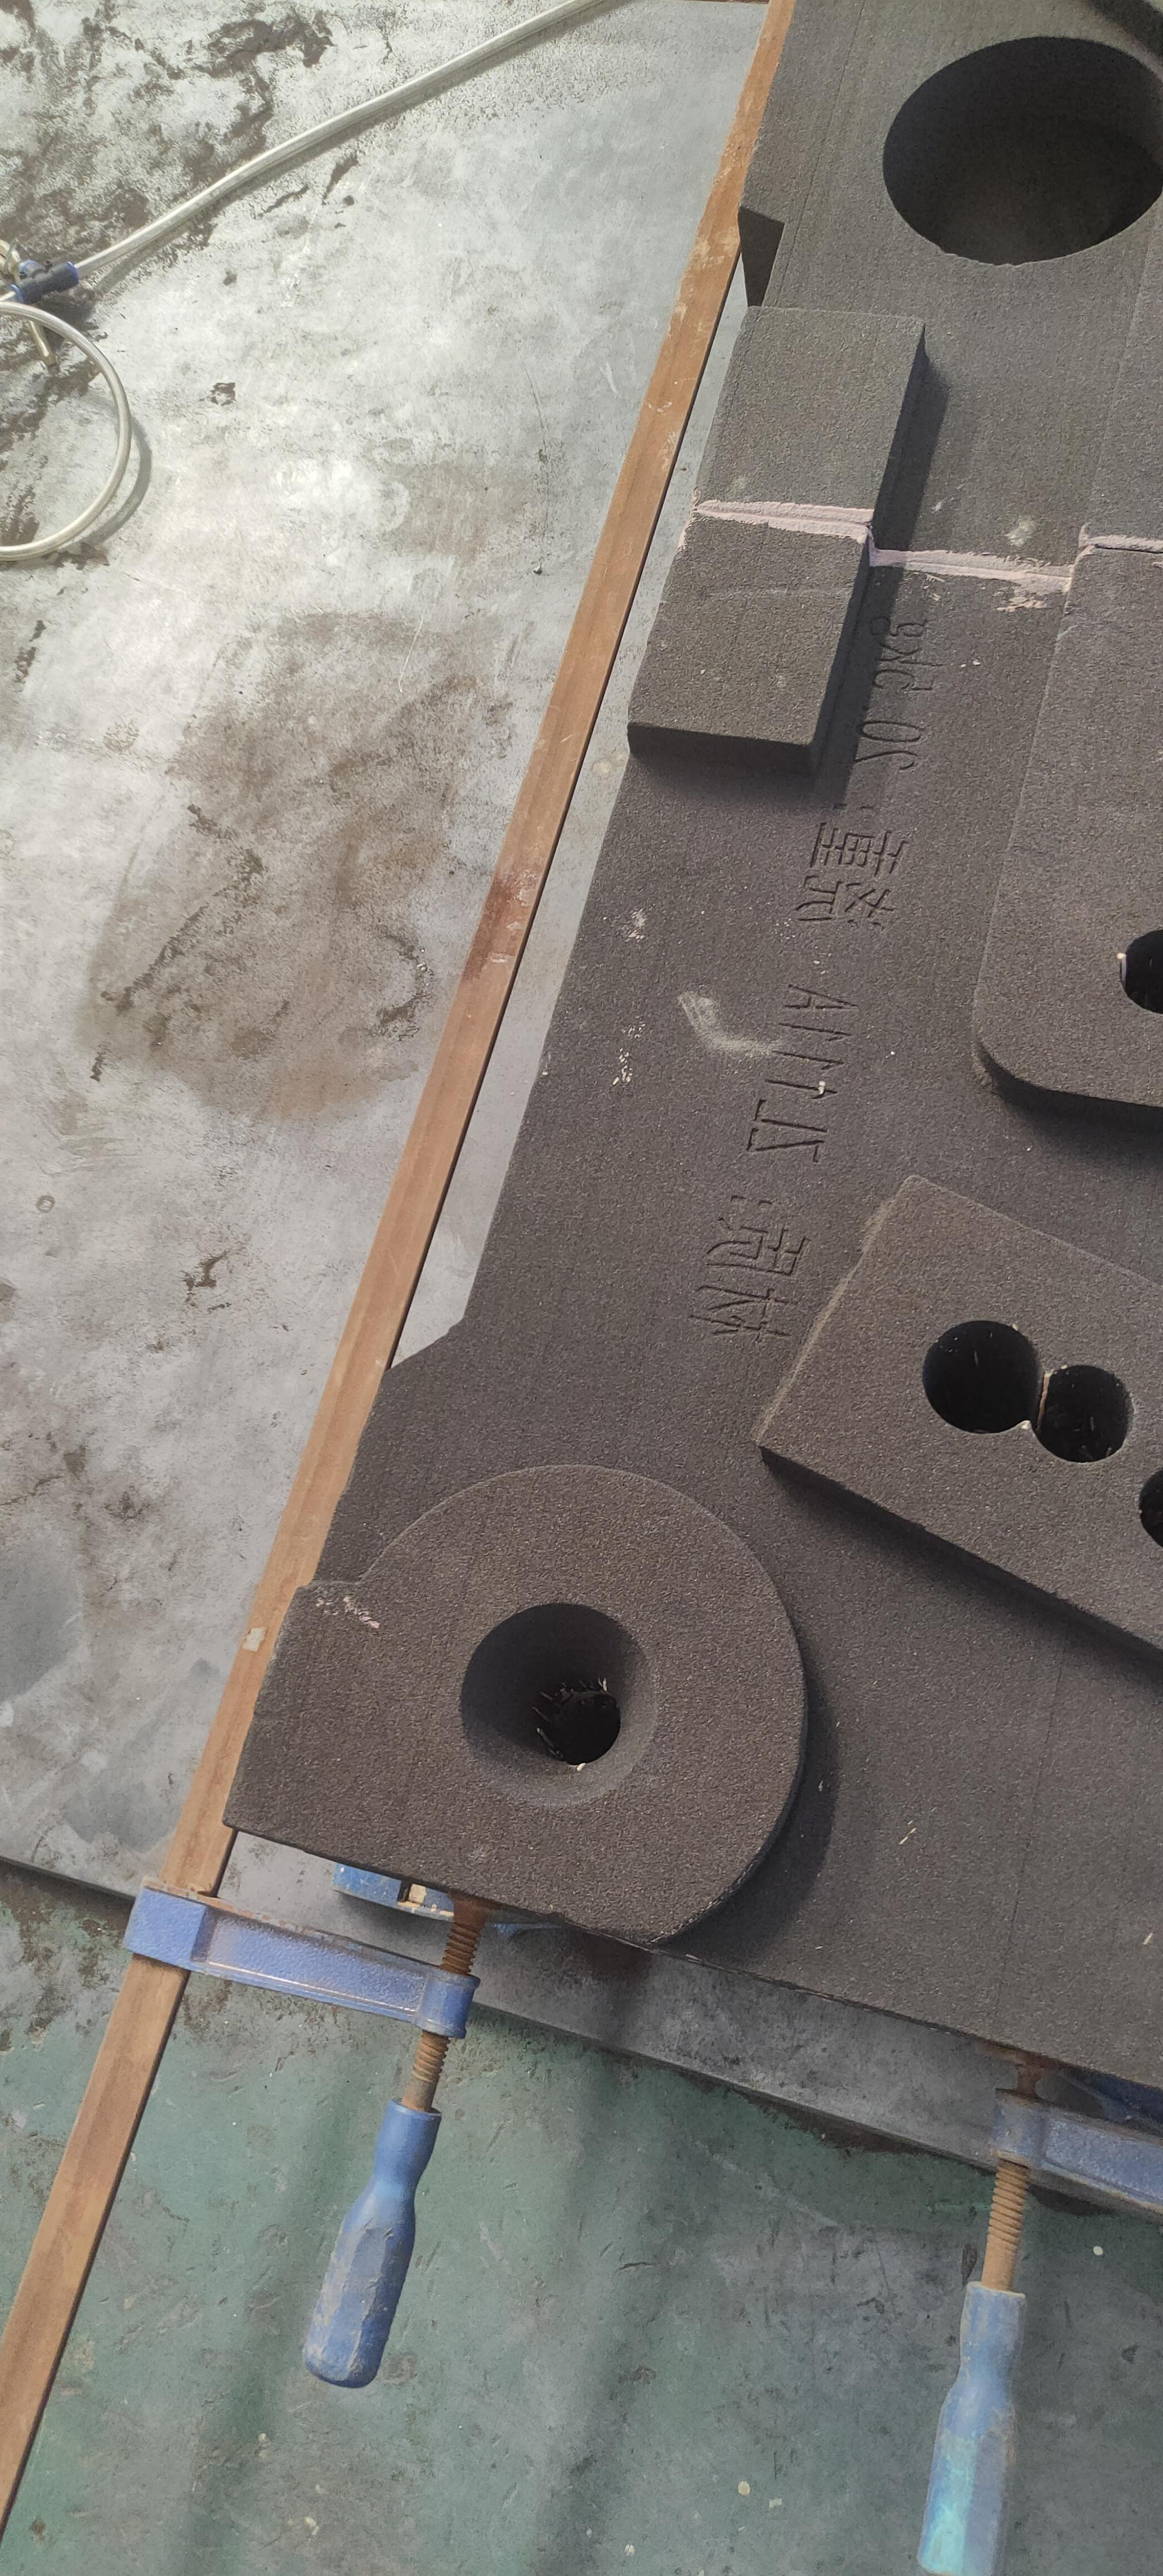pouring hole: (880, 34, 1163, 264), (458, 1603, 659, 1807)
